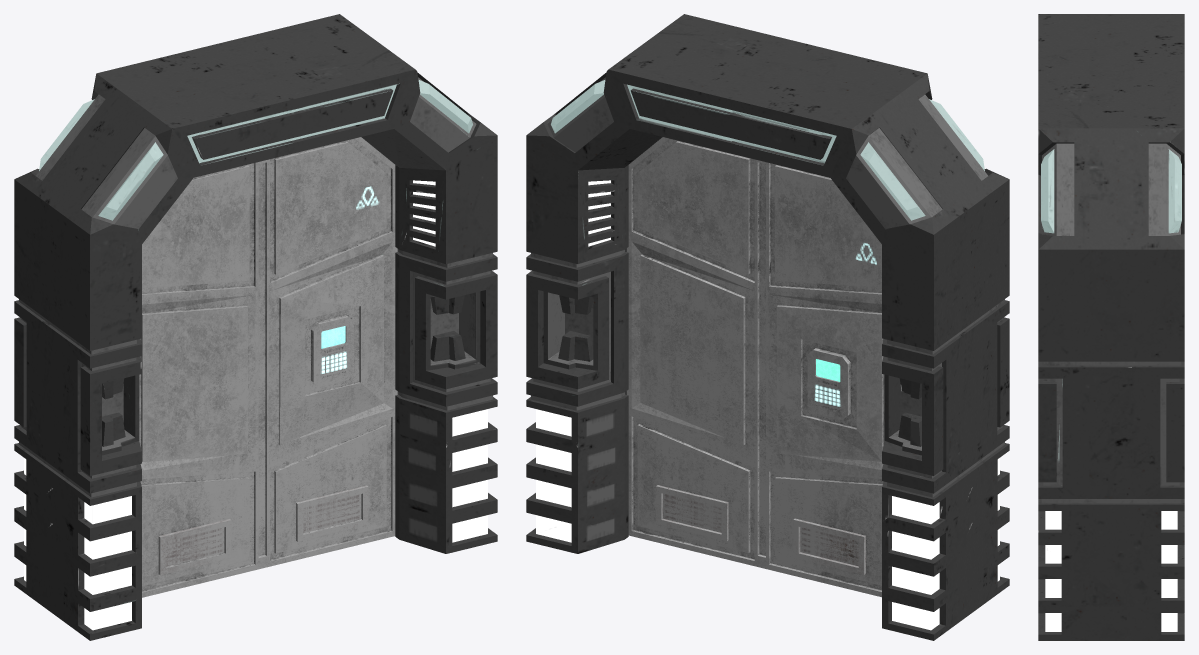
The model's file is PUERTA DE ACCESO.glb.
The picture shows the model from 3 angles, left to right: view 1: azimuth 30°, elevation 25°; view 2: azimuth 150°, elevation 25°; view 3: azimuth 270°, elevation 25°; orthographic projection. The views are drawn at different scales.
Parts seen in each view (by area): view 1: Puerta; view 2: Puerta; view 3: Puerta.
Part boxes in pixels (<box>): Puerta: <box>14,14,497,640</box>; Puerta: <box>526,14,1009,640</box>; Puerta: <box>1038,14,1184,640</box>.
Size of the model in its own units: 226 by 260 by 72.76.
2 materials, 2 textured.
